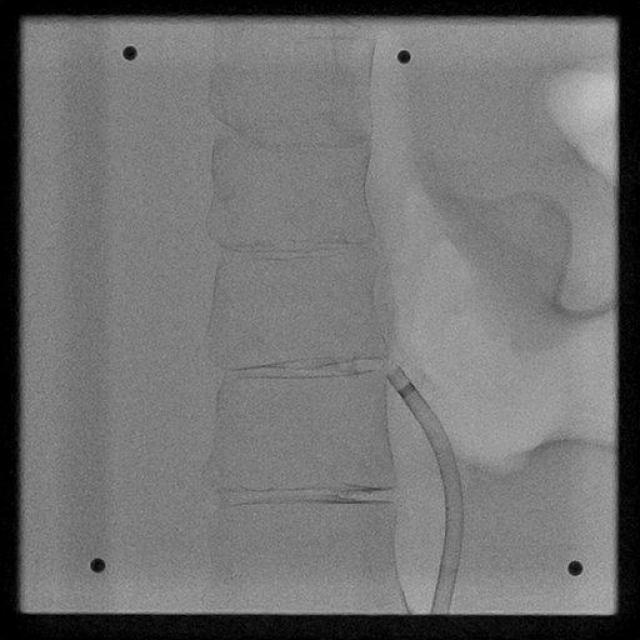bend: (444, 552, 462, 566)
entry: (430, 606, 450, 614)
marker: (397, 382, 418, 402)
tip: (387, 367, 402, 378)
